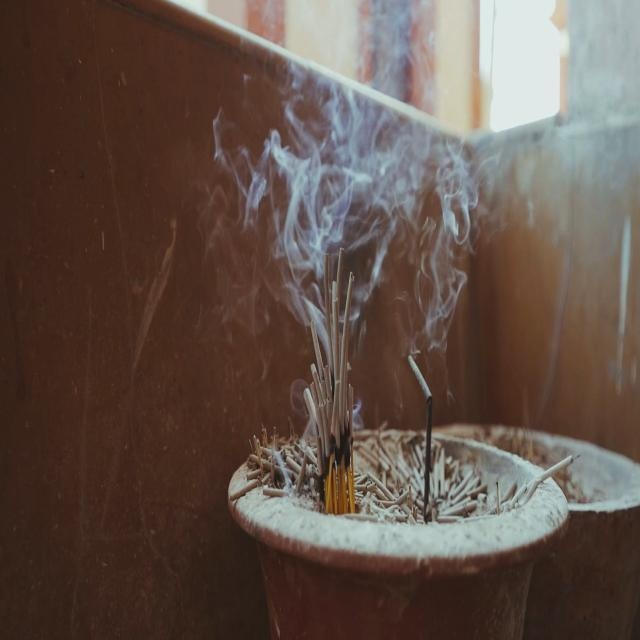smoke: (258, 84, 490, 292)
